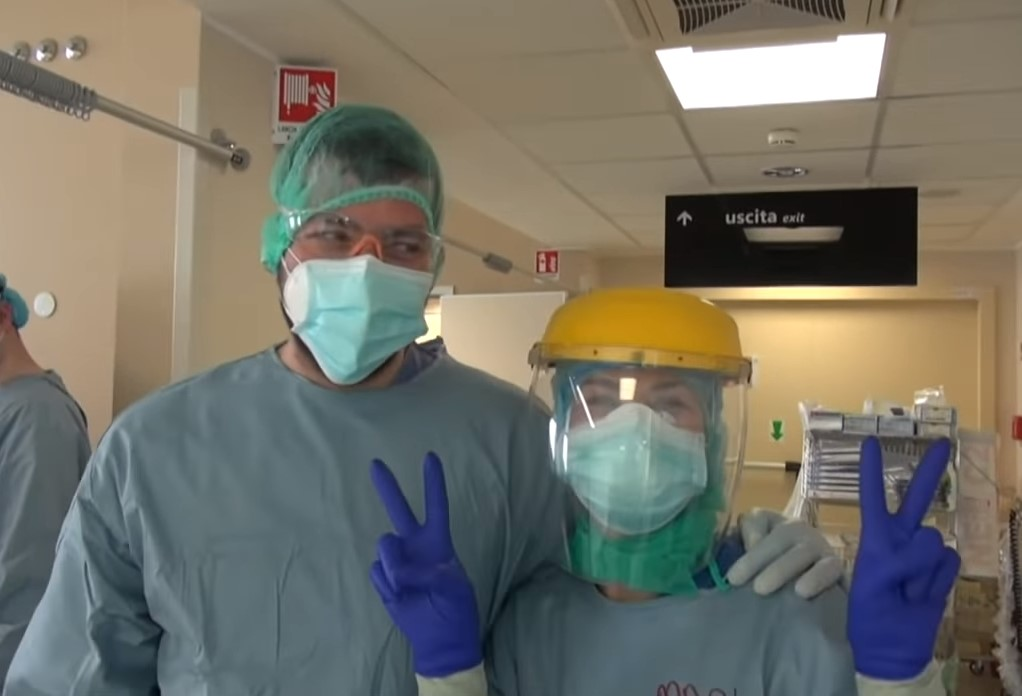face_with_mask: (531, 281, 751, 551), (260, 104, 448, 384)
